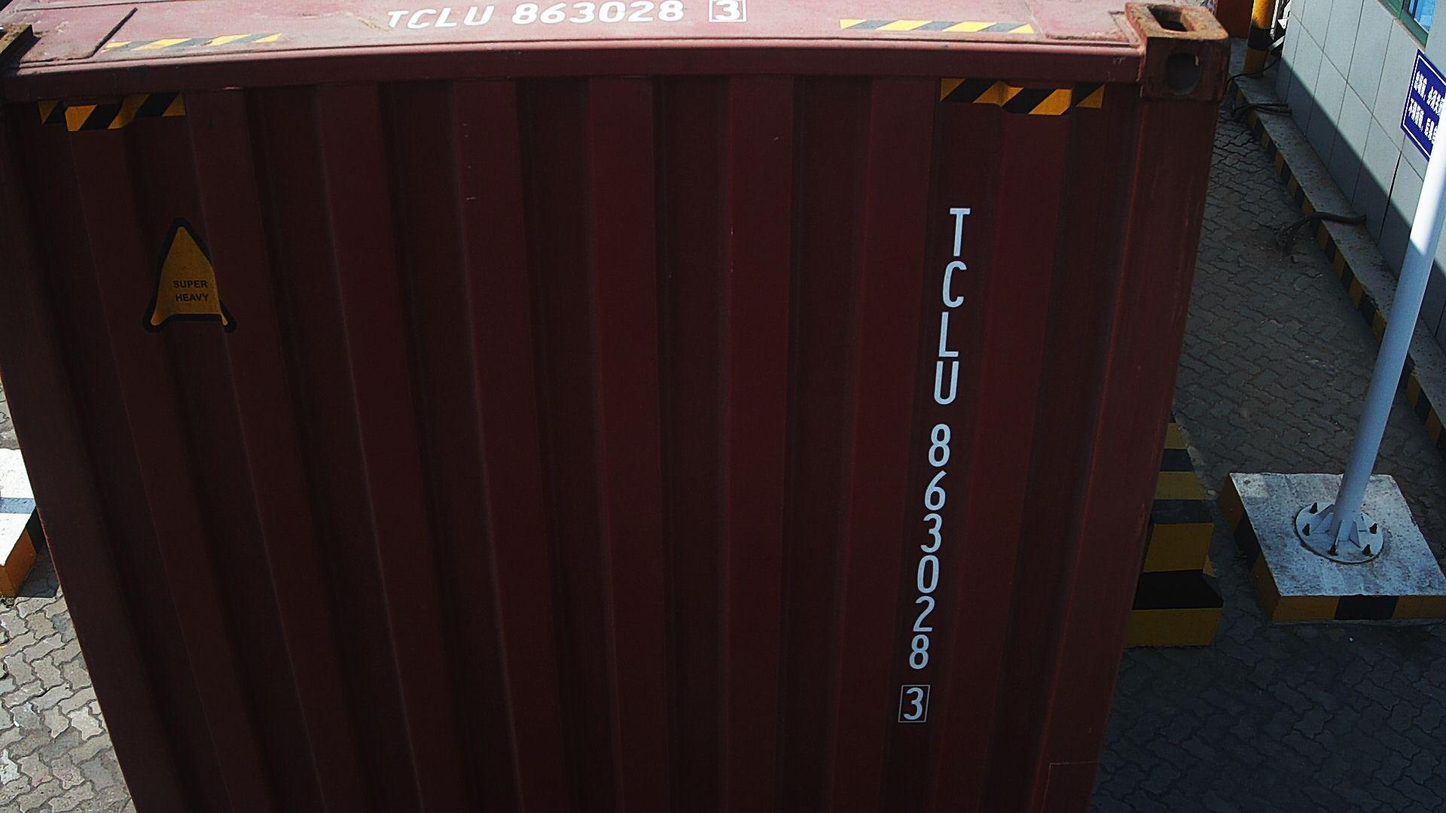container-numbers: (897, 197, 976, 727), (381, 0, 755, 29)
